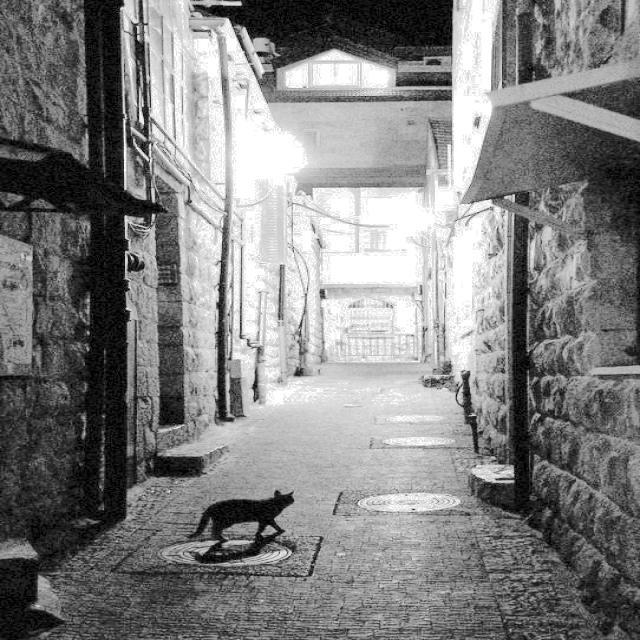Cat: (186, 487, 296, 548)
